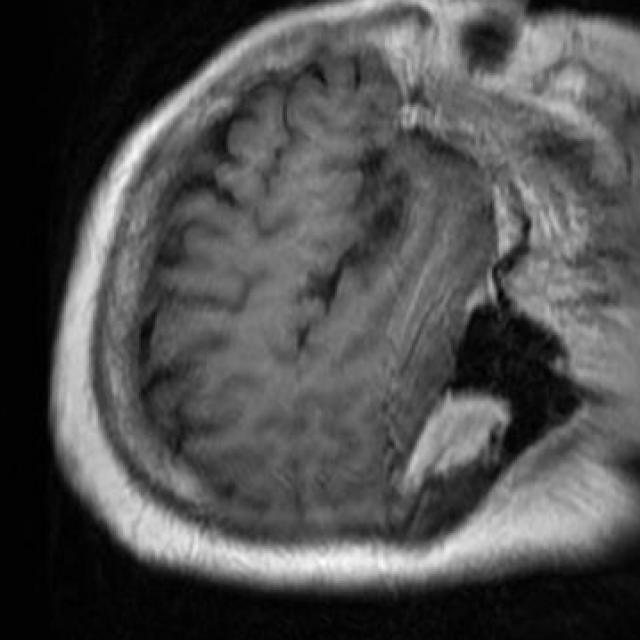meningioma: (398, 392, 506, 497)
